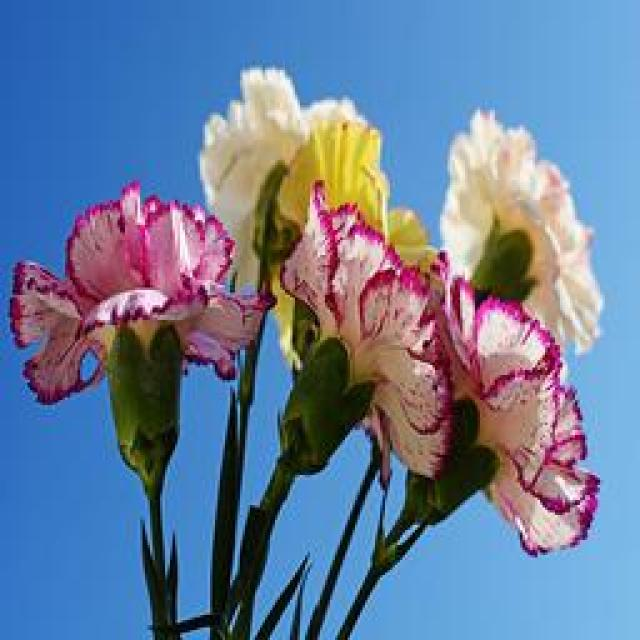carnation: (10, 185, 271, 434)
